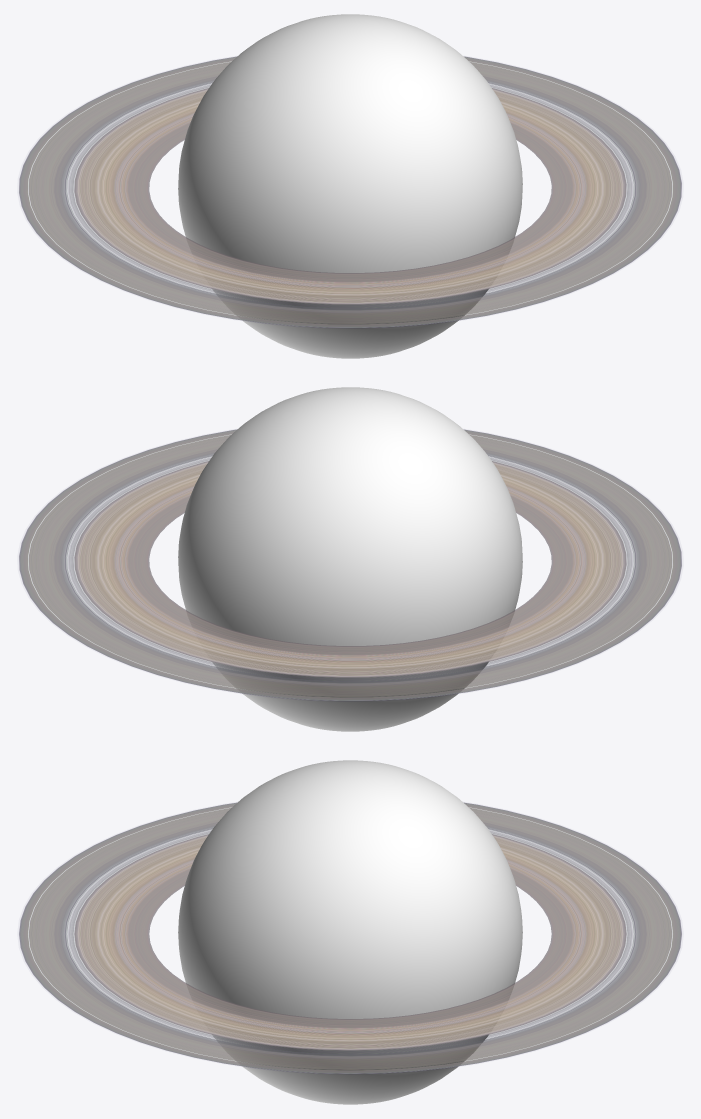
File: uranus-draco.glb
3 renders of one model, top to bottom at view 1: azimuth 30°, elevation 25°; view 2: azimuth 150°, elevation 25°; view 3: azimuth 270°, elevation 25°, orthographic.
Parts seen in each view (by area): view 1: Atm, Rings; view 2: Atm, Rings; view 3: Atm, Rings.
Boxes of the visible parts, x1=… form: Atm: x1=178, y1=14, x2=522, y2=358; Rings: x1=19, y1=56, x2=681, y2=327; Atm: x1=178, y1=387, x2=522, y2=731; Rings: x1=19, y1=429, x2=681, y2=700; Atm: x1=178, y1=760, x2=522, y2=1104; Rings: x1=19, y1=802, x2=681, y2=1073.
Bounding box in the file's own units: 648 × 332 × 648.
3 materials, 2 textured.
